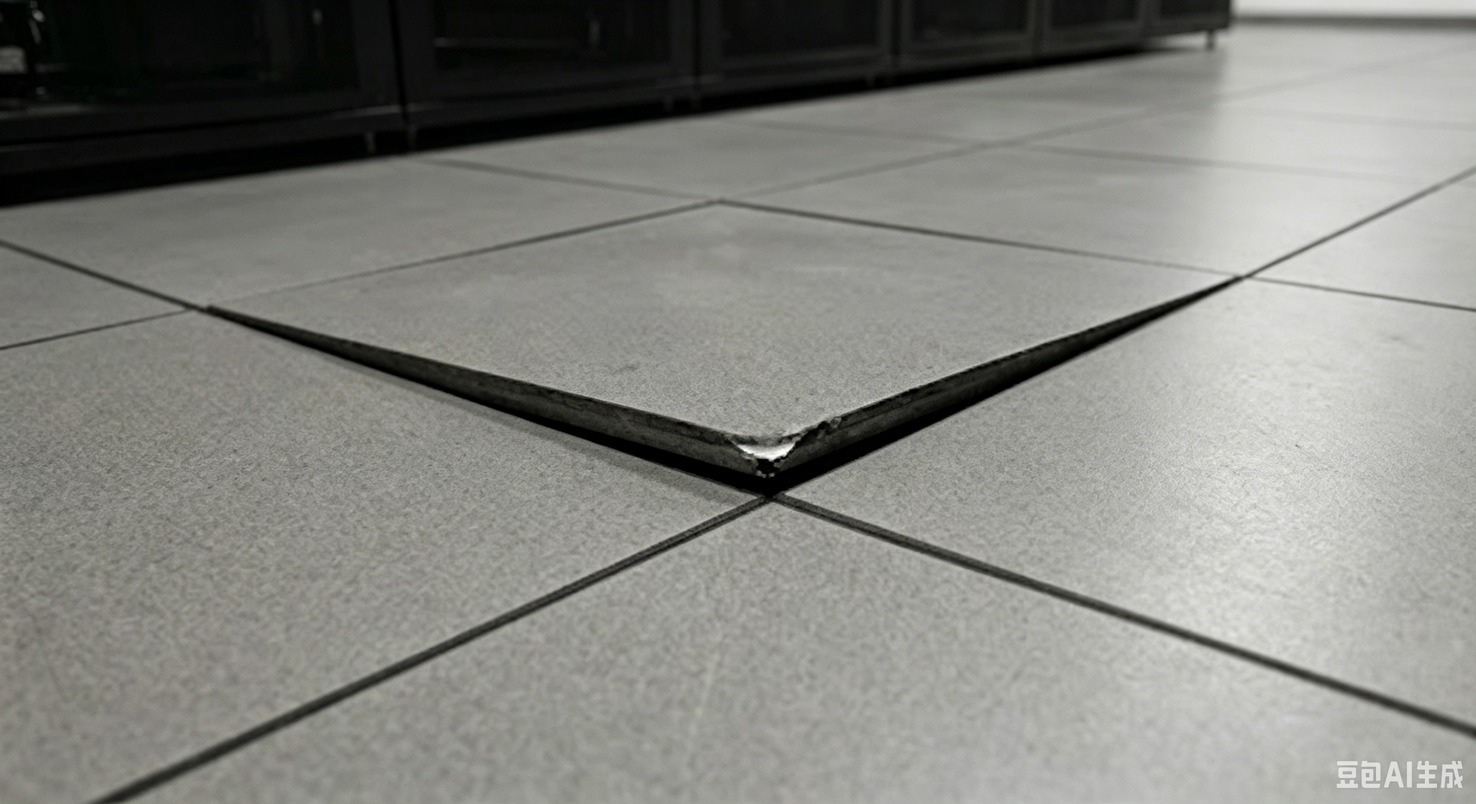floor_defect: (214, 297, 779, 505), (783, 361, 1035, 494), (993, 288, 1168, 373), (1128, 258, 1236, 318)
